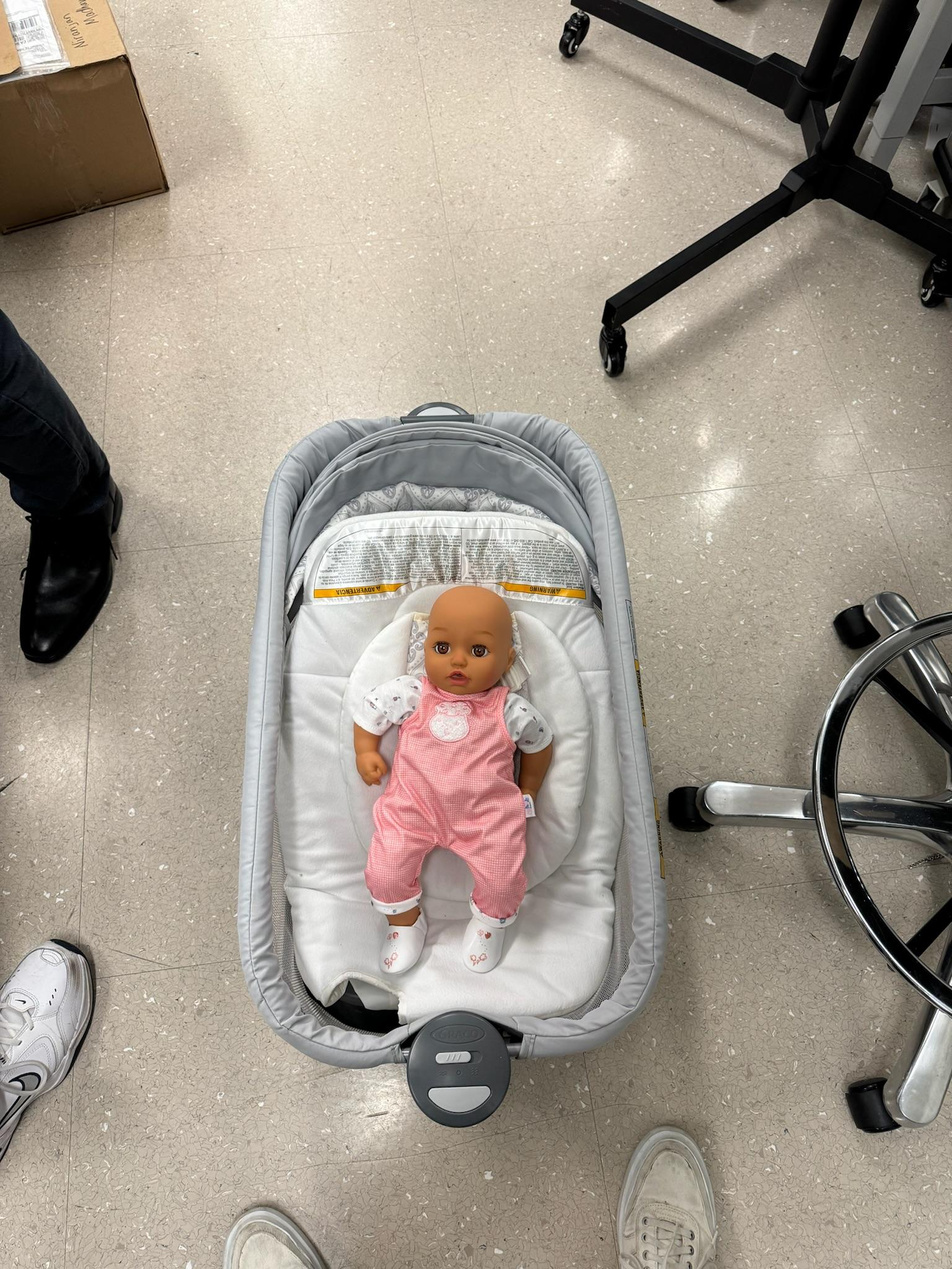baby: (328, 570, 565, 982)
